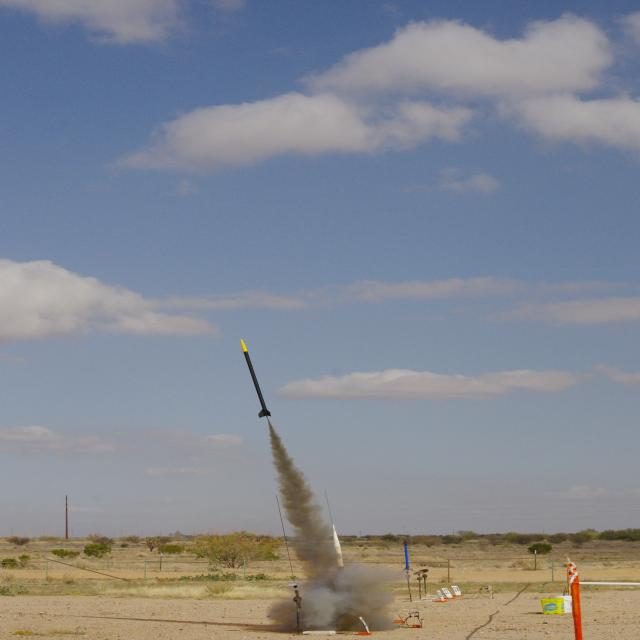Rocket: (240, 338, 273, 418)
